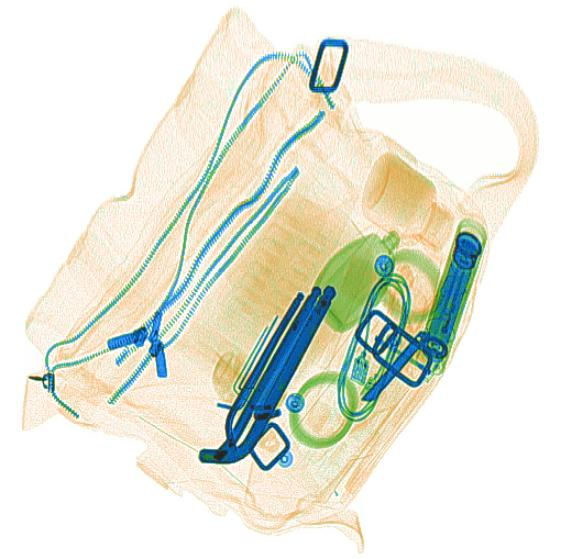battery: (424, 257, 473, 348)
knife: (360, 328, 432, 402)
